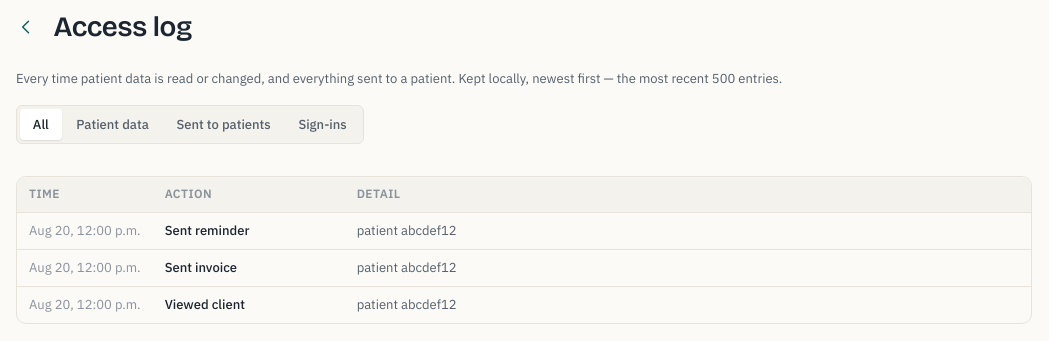
Test: AuditLog › filters to things sent to patients
This screenshot has width=1049, height=341.
Expected: the text "Sent reminder" is shown, [153,213,345,250]
Click the button "Sent to patients".
click(224, 125)  # box [164,109,284,140]
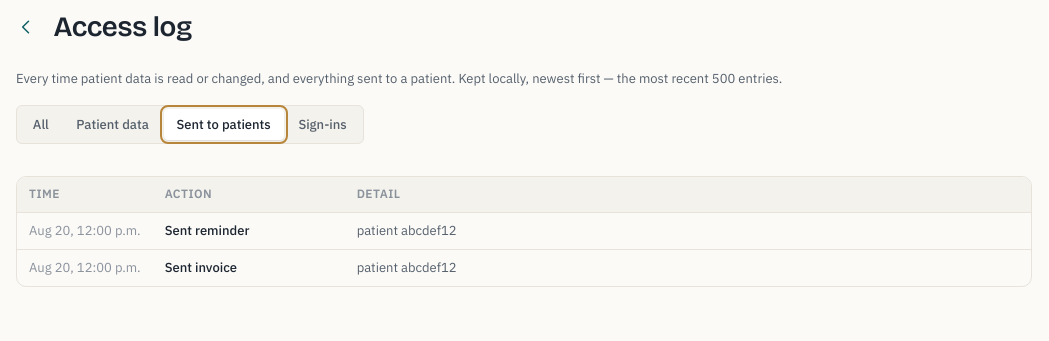
Expected: the text "Sent reminder" is shown, [153,213,345,250]
Expected: the text "Viewed client" is gone
